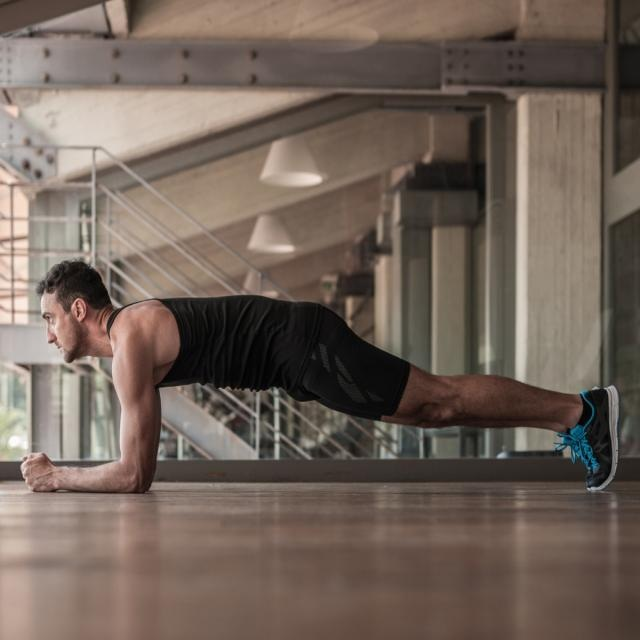plank: (11, 257, 624, 505)
